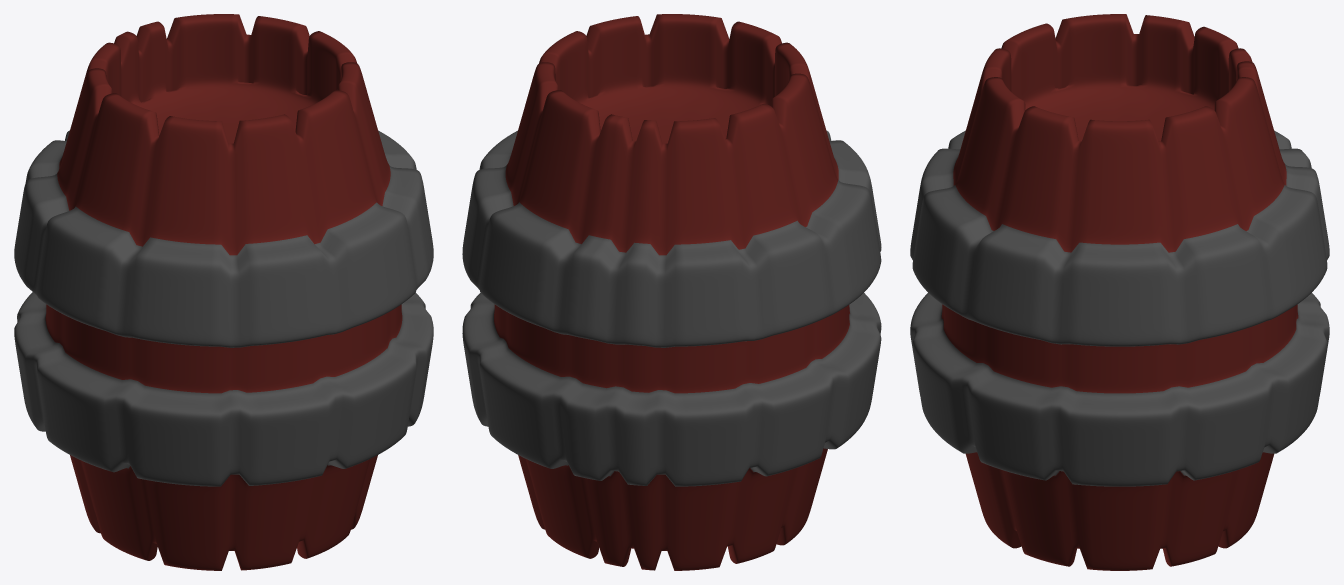
The model's file is barrel.fbx.
3 views of the same model, side by side, from view 1: azimuth 30°, elevation 25°; view 2: azimuth 150°, elevation 25°; view 3: azimuth 270°, elevation 25° (orthographic).
Visible parts, largest first — view 1: Cylinder.001; view 2: Cylinder.001; view 3: Cylinder.001.
Part boxes in pixels (x1,y1,x2,y2): Cylinder.001: [14, 14, 433, 570]; Cylinder.001: [462, 14, 881, 570]; Cylinder.001: [910, 14, 1329, 570].
Size of the model in its own units: 301 by 354 by 301.
